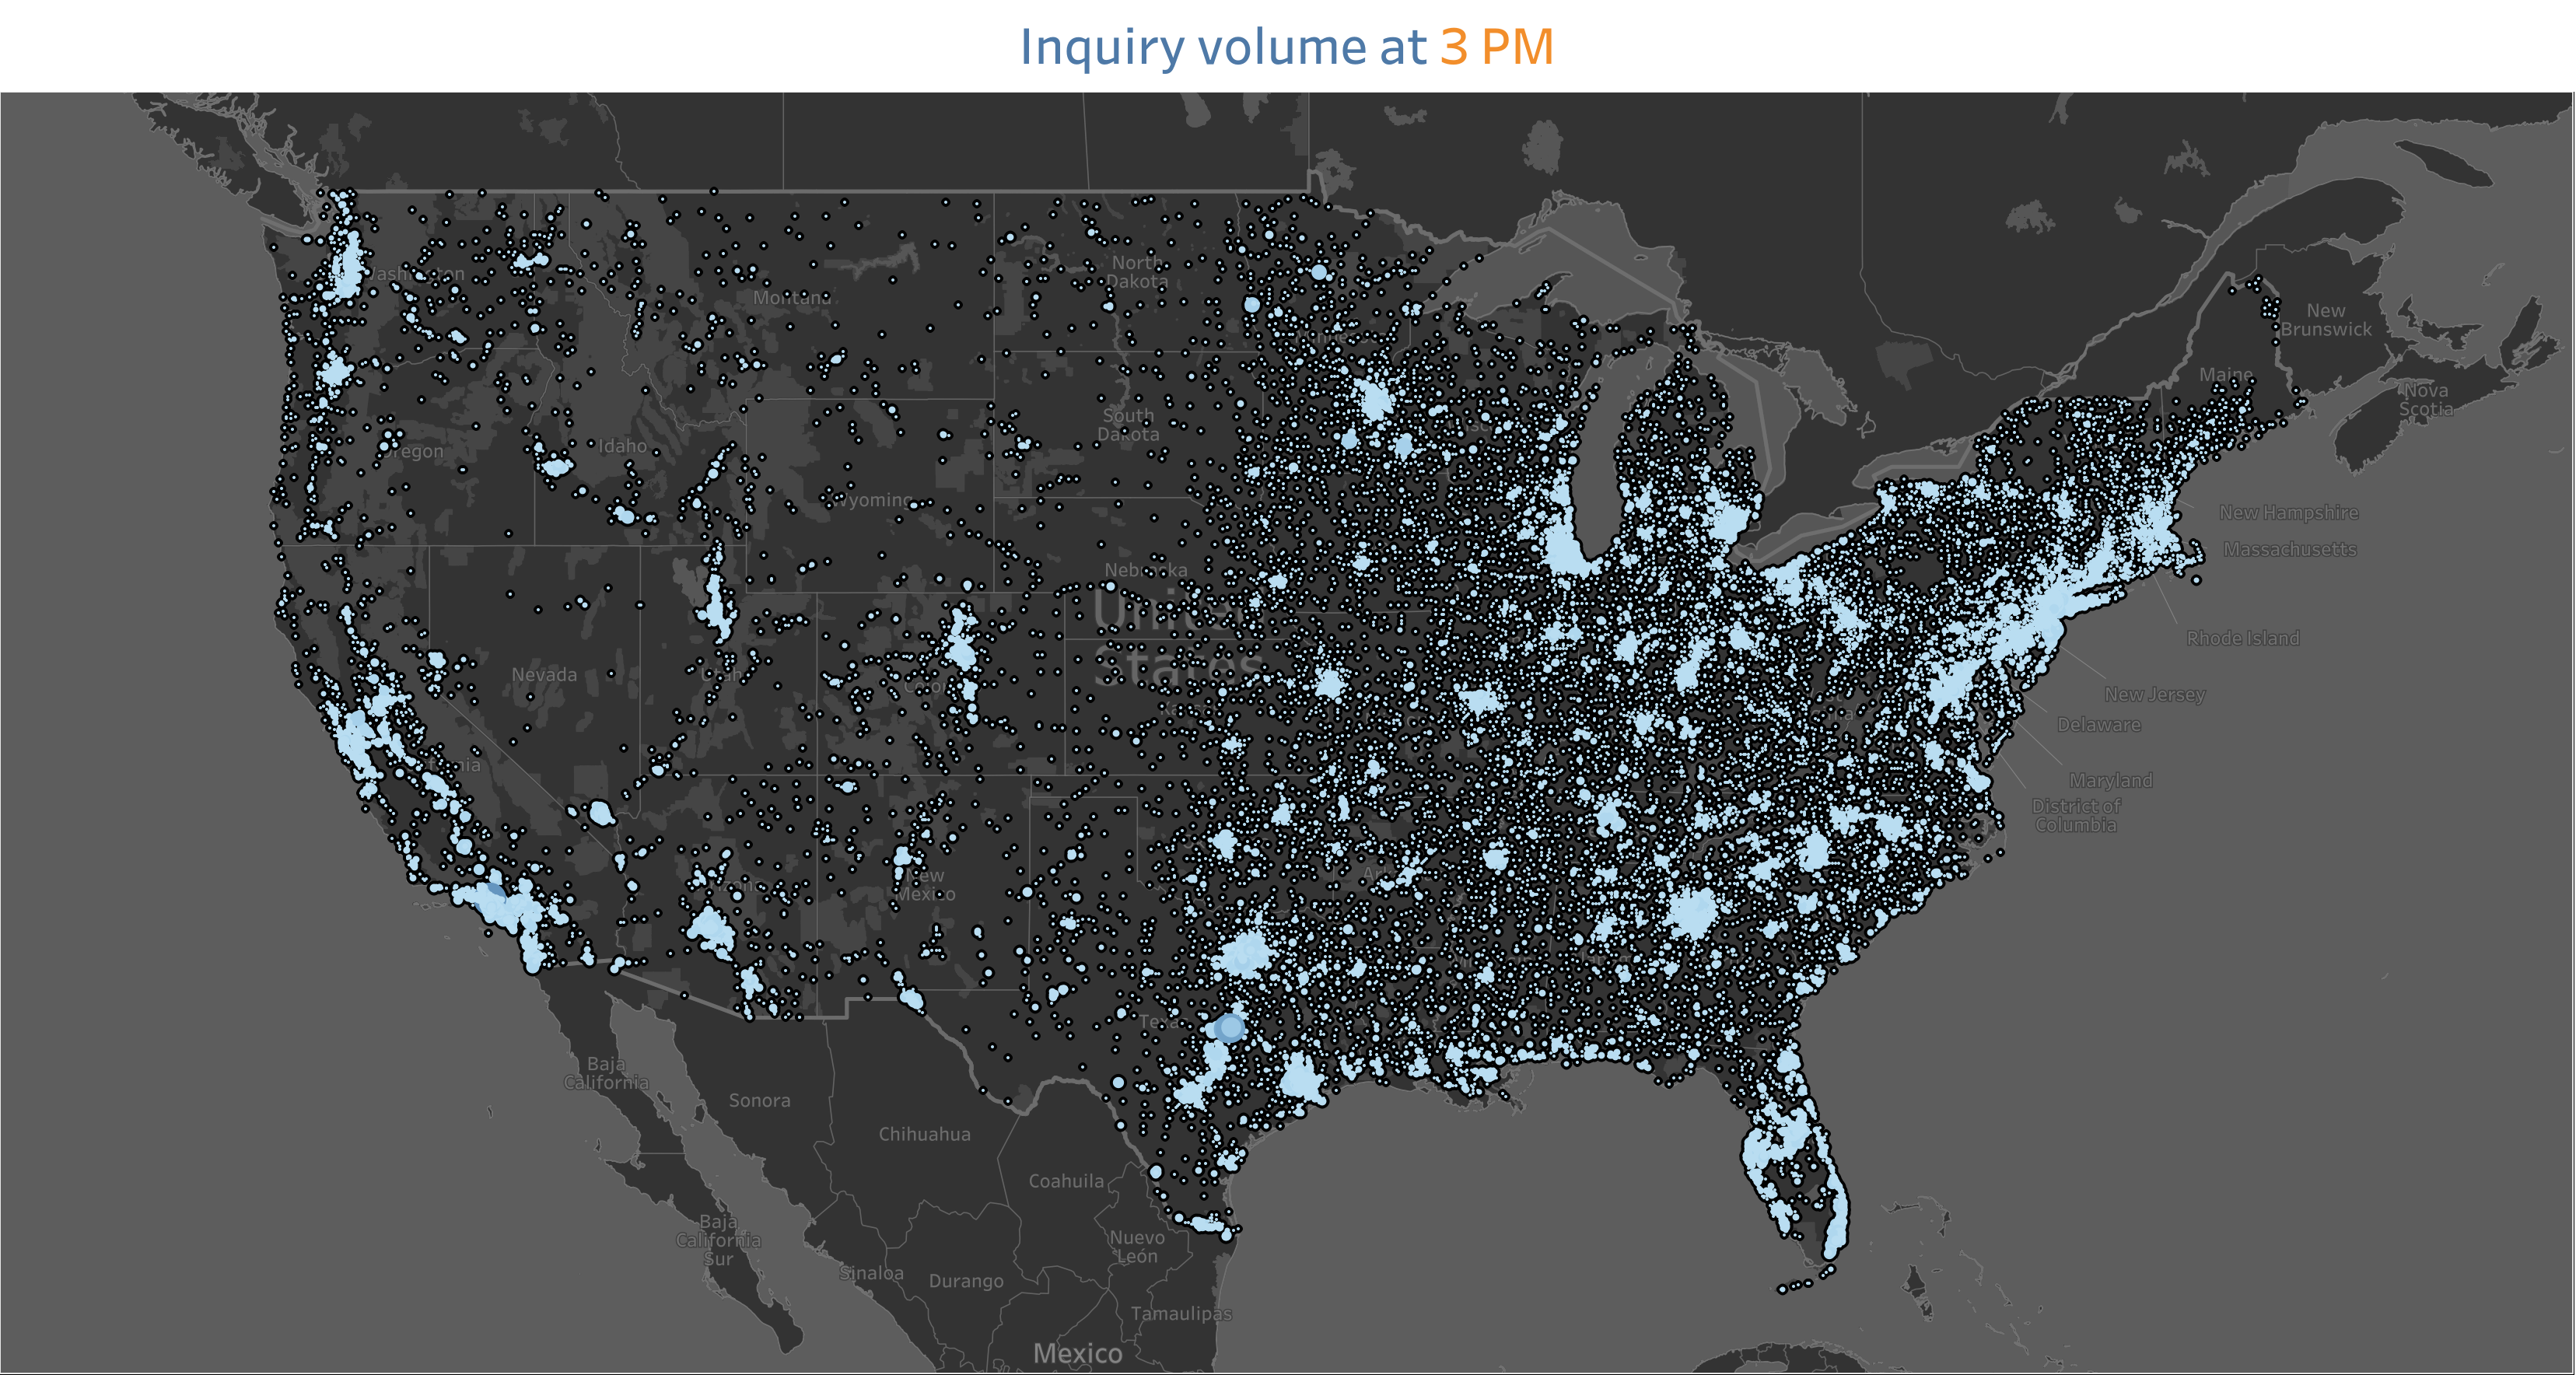

Layout of this report page (visuals, bound fields, positions):
{"tool":"tableau","page":{"name":"Dashboard 1","canvas":[1000,1000],"units":"permille","ordinal":0},"visuals":[{"type":"worksheet","title":"Sheet 1","mark":"Automatic","box":[4.7,8.8,990.6,982.3]},{"type":"currpage","title":"Sheet 1","box":[883,30.9,87.8,105]}]}

Visuals, with their boxes on the dashboard's canvas, which has no fixed pixel size, in thousandths of its width and height (x1, y1, x2, y2). These are canvas units, not pixel positions in the 2576x1375 screenshot, which may show the page scaled, cropped or inside an application window:
"Sheet 1" worksheet: select_region(5, 9, 995, 991)
"Sheet 1" currpage: select_region(883, 31, 971, 136)
